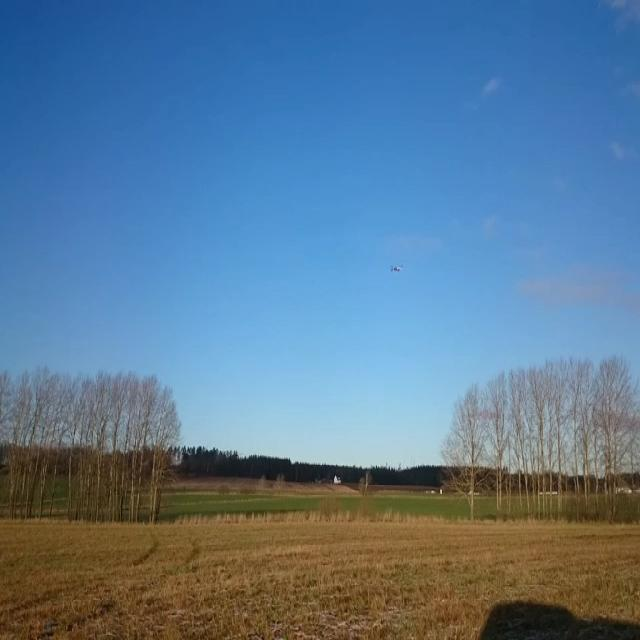drone: (391, 264, 403, 274)
